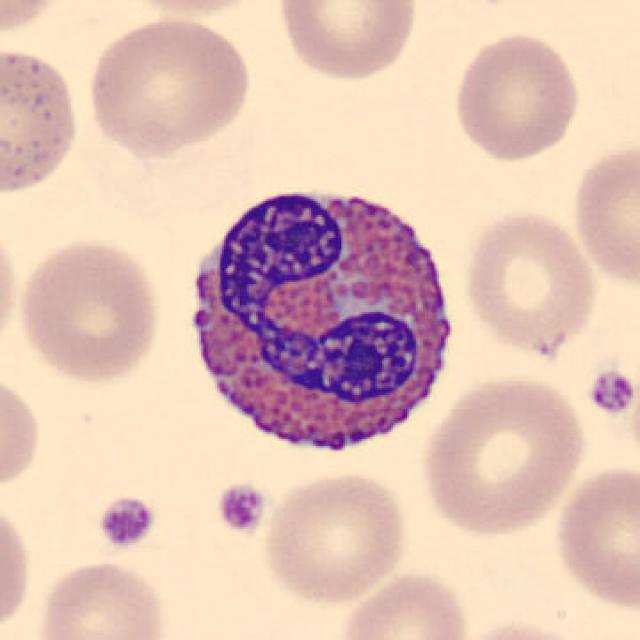Eosinophil: (175, 166, 470, 476)
Platelets: (94, 494, 158, 550), (214, 480, 268, 536), (585, 367, 636, 418)
RBC: (416, 370, 590, 540), (82, 12, 256, 159), (14, 234, 164, 388), (459, 204, 599, 360), (260, 467, 412, 607), (448, 28, 583, 164), (550, 460, 638, 615), (0, 42, 84, 201), (272, 0, 423, 85), (34, 555, 170, 640), (567, 136, 638, 291), (336, 567, 474, 640), (0, 368, 44, 498), (0, 494, 34, 638), (0, 219, 23, 363), (0, 0, 73, 44), (451, 619, 601, 640), (105, 0, 270, 18)
